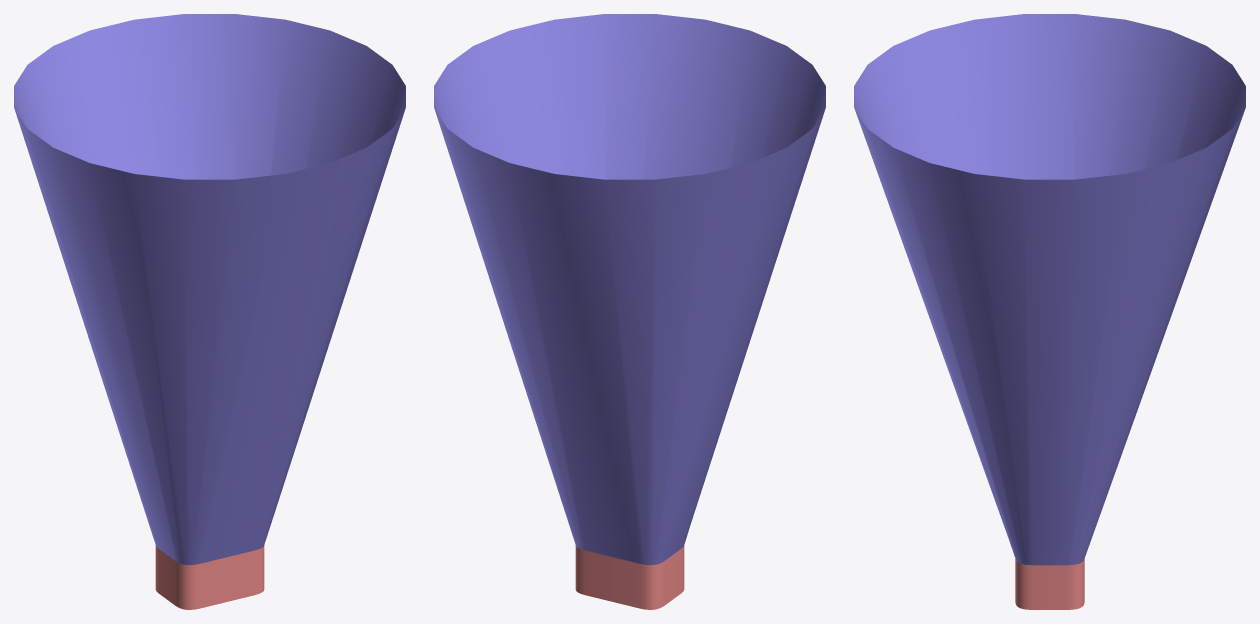
Rendered from Light_QianDeng3_1X1_on.FBX.
3 views of the same model, side by side, from view 1: azimuth 30°, elevation 25°; view 2: azimuth 150°, elevation 25°; view 3: azimuth 270°, elevation 25° (orthographic).
Visible parts, largest first — view 1: Box002; view 2: Box002; view 3: Box002.
Boxes of the visible parts, bbox=[...] form: Box002: bbox=[14, 14, 405, 609]; Box002: bbox=[434, 14, 825, 609]; Box002: bbox=[854, 14, 1245, 609].
Size of the model in its own units: 3.97 by 5.5 by 3.97.
